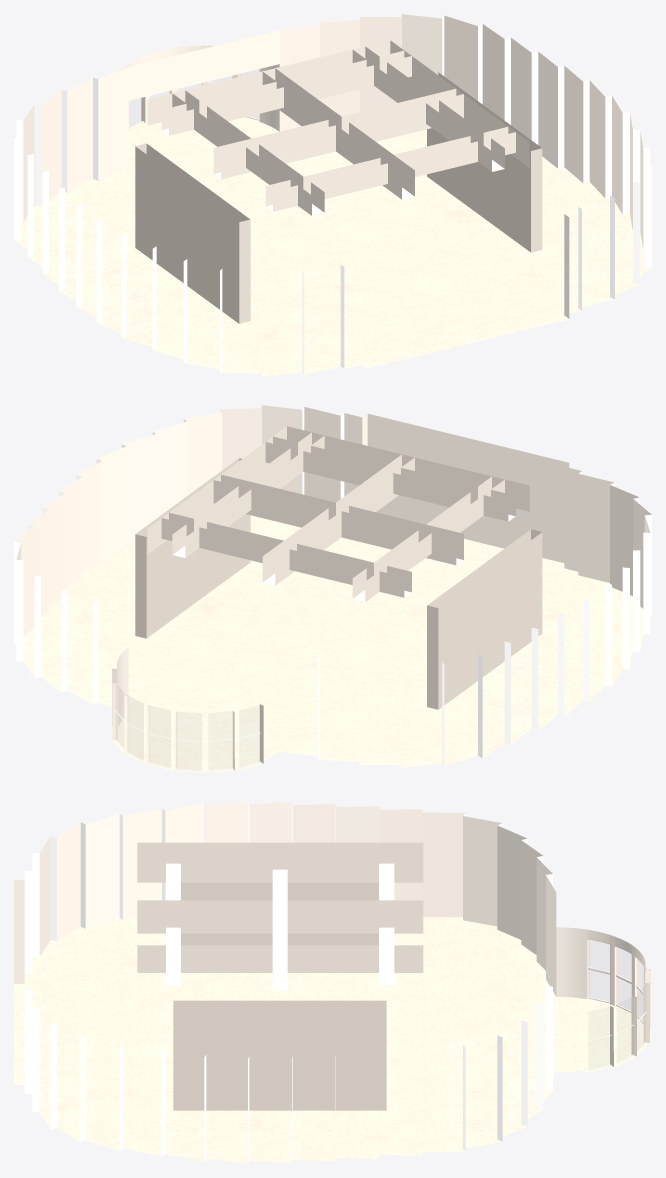
Rendered from vr_moody_lighting_art_gallery_scene_06.glb.
3 renders of one model, top to bottom at view 1: azimuth 30°, elevation 25°; view 2: azimuth 150°, elevation 25°; view 3: azimuth 270°, elevation 25°, orthographic. The views are drawn at different scales.
Visible parts, largest first — view 1: polySurface15, polySurface175, pCube9, pCube14, polySurface141, polySurface140, polySurface21; view 2: polySurface15, polySurface175, pCube9, pCube14, polySurface141, polySurface140, polySurface21; view 3: polySurface15, polySurface175, pCube14, pCube9, polySurface141, polySurface21, polySurface140.
Part boxes in pixels (<box>): polySurface15: <box>14,116,651,376</box>; polySurface175: <box>23,14,643,318</box>; pCube9: <box>161,46,515,215</box>; pCube14: <box>135,72,542,323</box>; polySurface141: <box>14,15,651,374</box>; polySurface140: <box>147,40,529,167</box>; polySurface21: <box>123,45,279,131</box>; polySurface15: <box>23,515,643,772</box>; polySurface175: <box>14,405,651,636</box>; pCube9: <box>161,432,515,601</box>; pCube14: <box>135,458,542,709</box>; polySurface141: <box>14,407,651,766</box>; polySurface140: <box>147,426,529,553</box>; polySurface21: <box>112,647,263,770</box>; polySurface15: <box>14,917,650,1163</box>; polySurface175: <box>14,801,556,996</box>; pCube14: <box>173,882,386,1110</box>; pCube9: <box>137,855,423,990</box>; polySurface141: <box>24,802,552,1162</box>; polySurface21: <box>556,927,650,1070</box>; polySurface140: <box>137,842,423,869</box>.
Size of the model in its own units: 239 by 56.62 by 250.
Materials: 10 (1 with a texture image).
